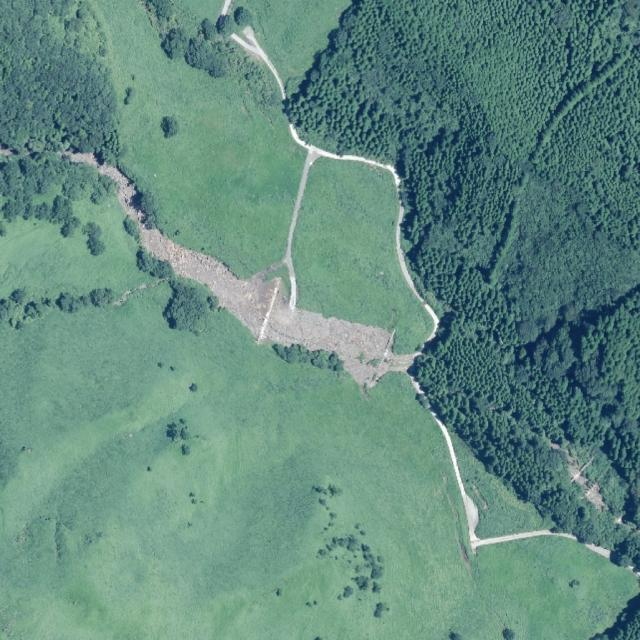landslide: (69, 154, 413, 387)
